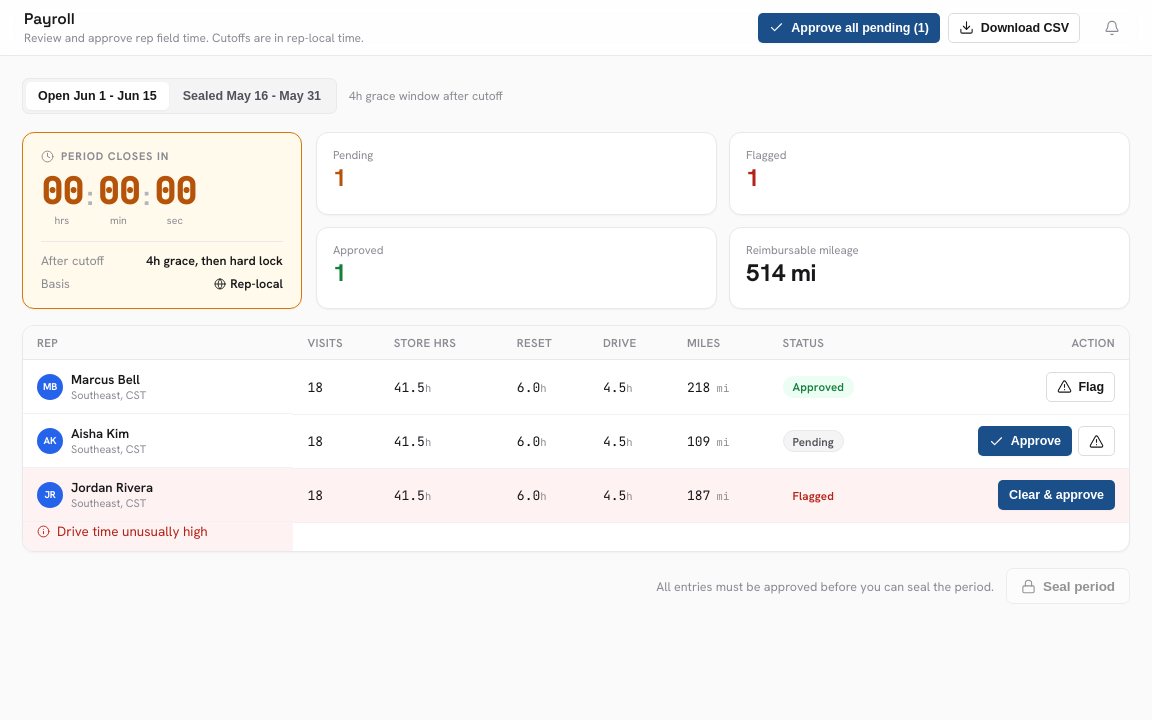
Test: Payroll (admin) - sealed period › shows the sealed banner and Reopen buttons
Expected: the text "Marcus Bell" is shown, [71,371,146,388]
Click the button "Sealed May 16 - May 31": (252, 96) [171,82,333,110]
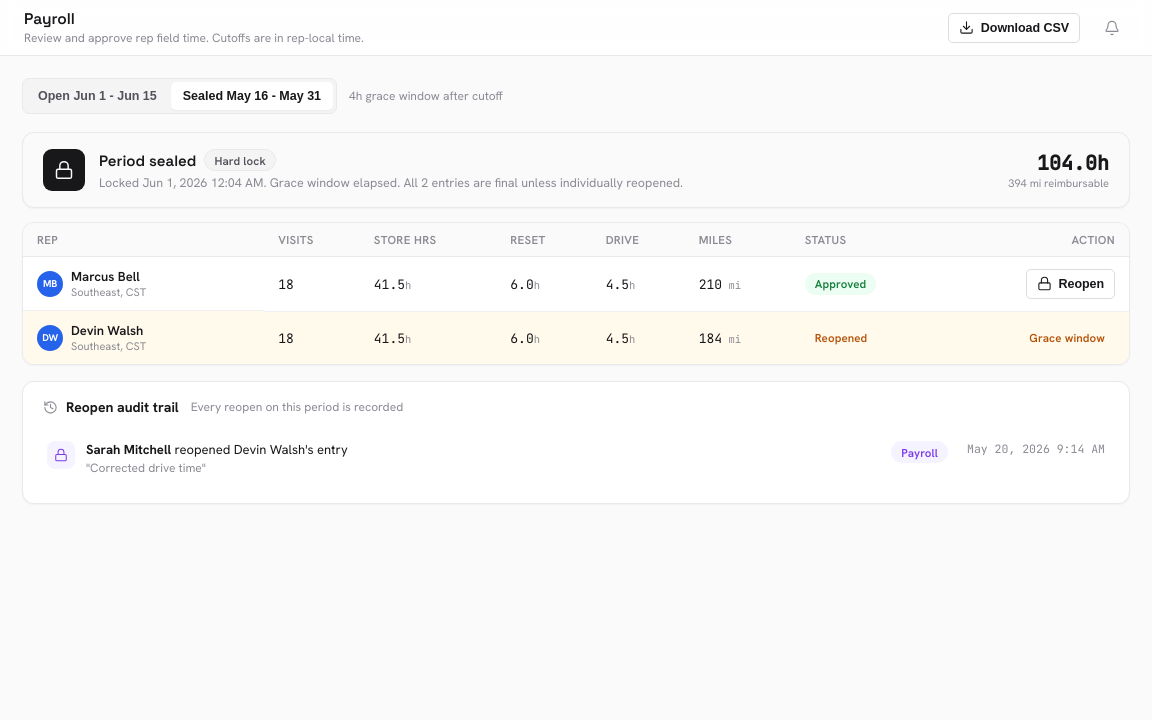
Expected: the heading "Period sealed" is shown, [99,150,196,170]
Expected: the button "Reopen" is shown, [1026,269,1115,299]
Expected: the text "Grace window" is shown, [1019,327,1115,349]
